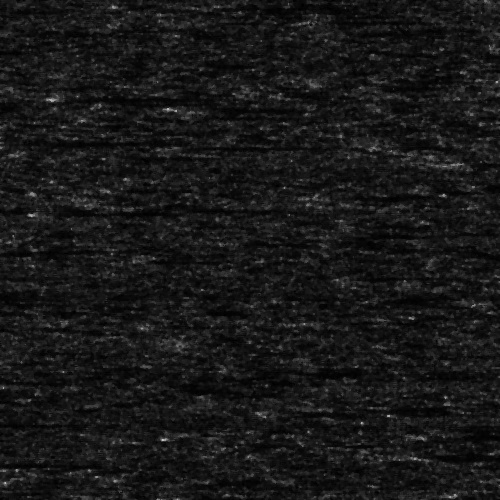object: (380, 156, 500, 167), (281, 190, 364, 201), (0, 204, 66, 217), (378, 450, 451, 461), (134, 102, 207, 111), (124, 142, 217, 149), (47, 93, 88, 98), (0, 137, 24, 144)
shadow: (20, 204, 206, 217), (0, 137, 177, 144), (322, 190, 427, 201), (170, 142, 319, 149), (415, 450, 500, 461), (170, 102, 268, 111), (68, 93, 207, 98), (0, 457, 51, 468), (452, 156, 500, 167), (0, 498, 59, 500)
